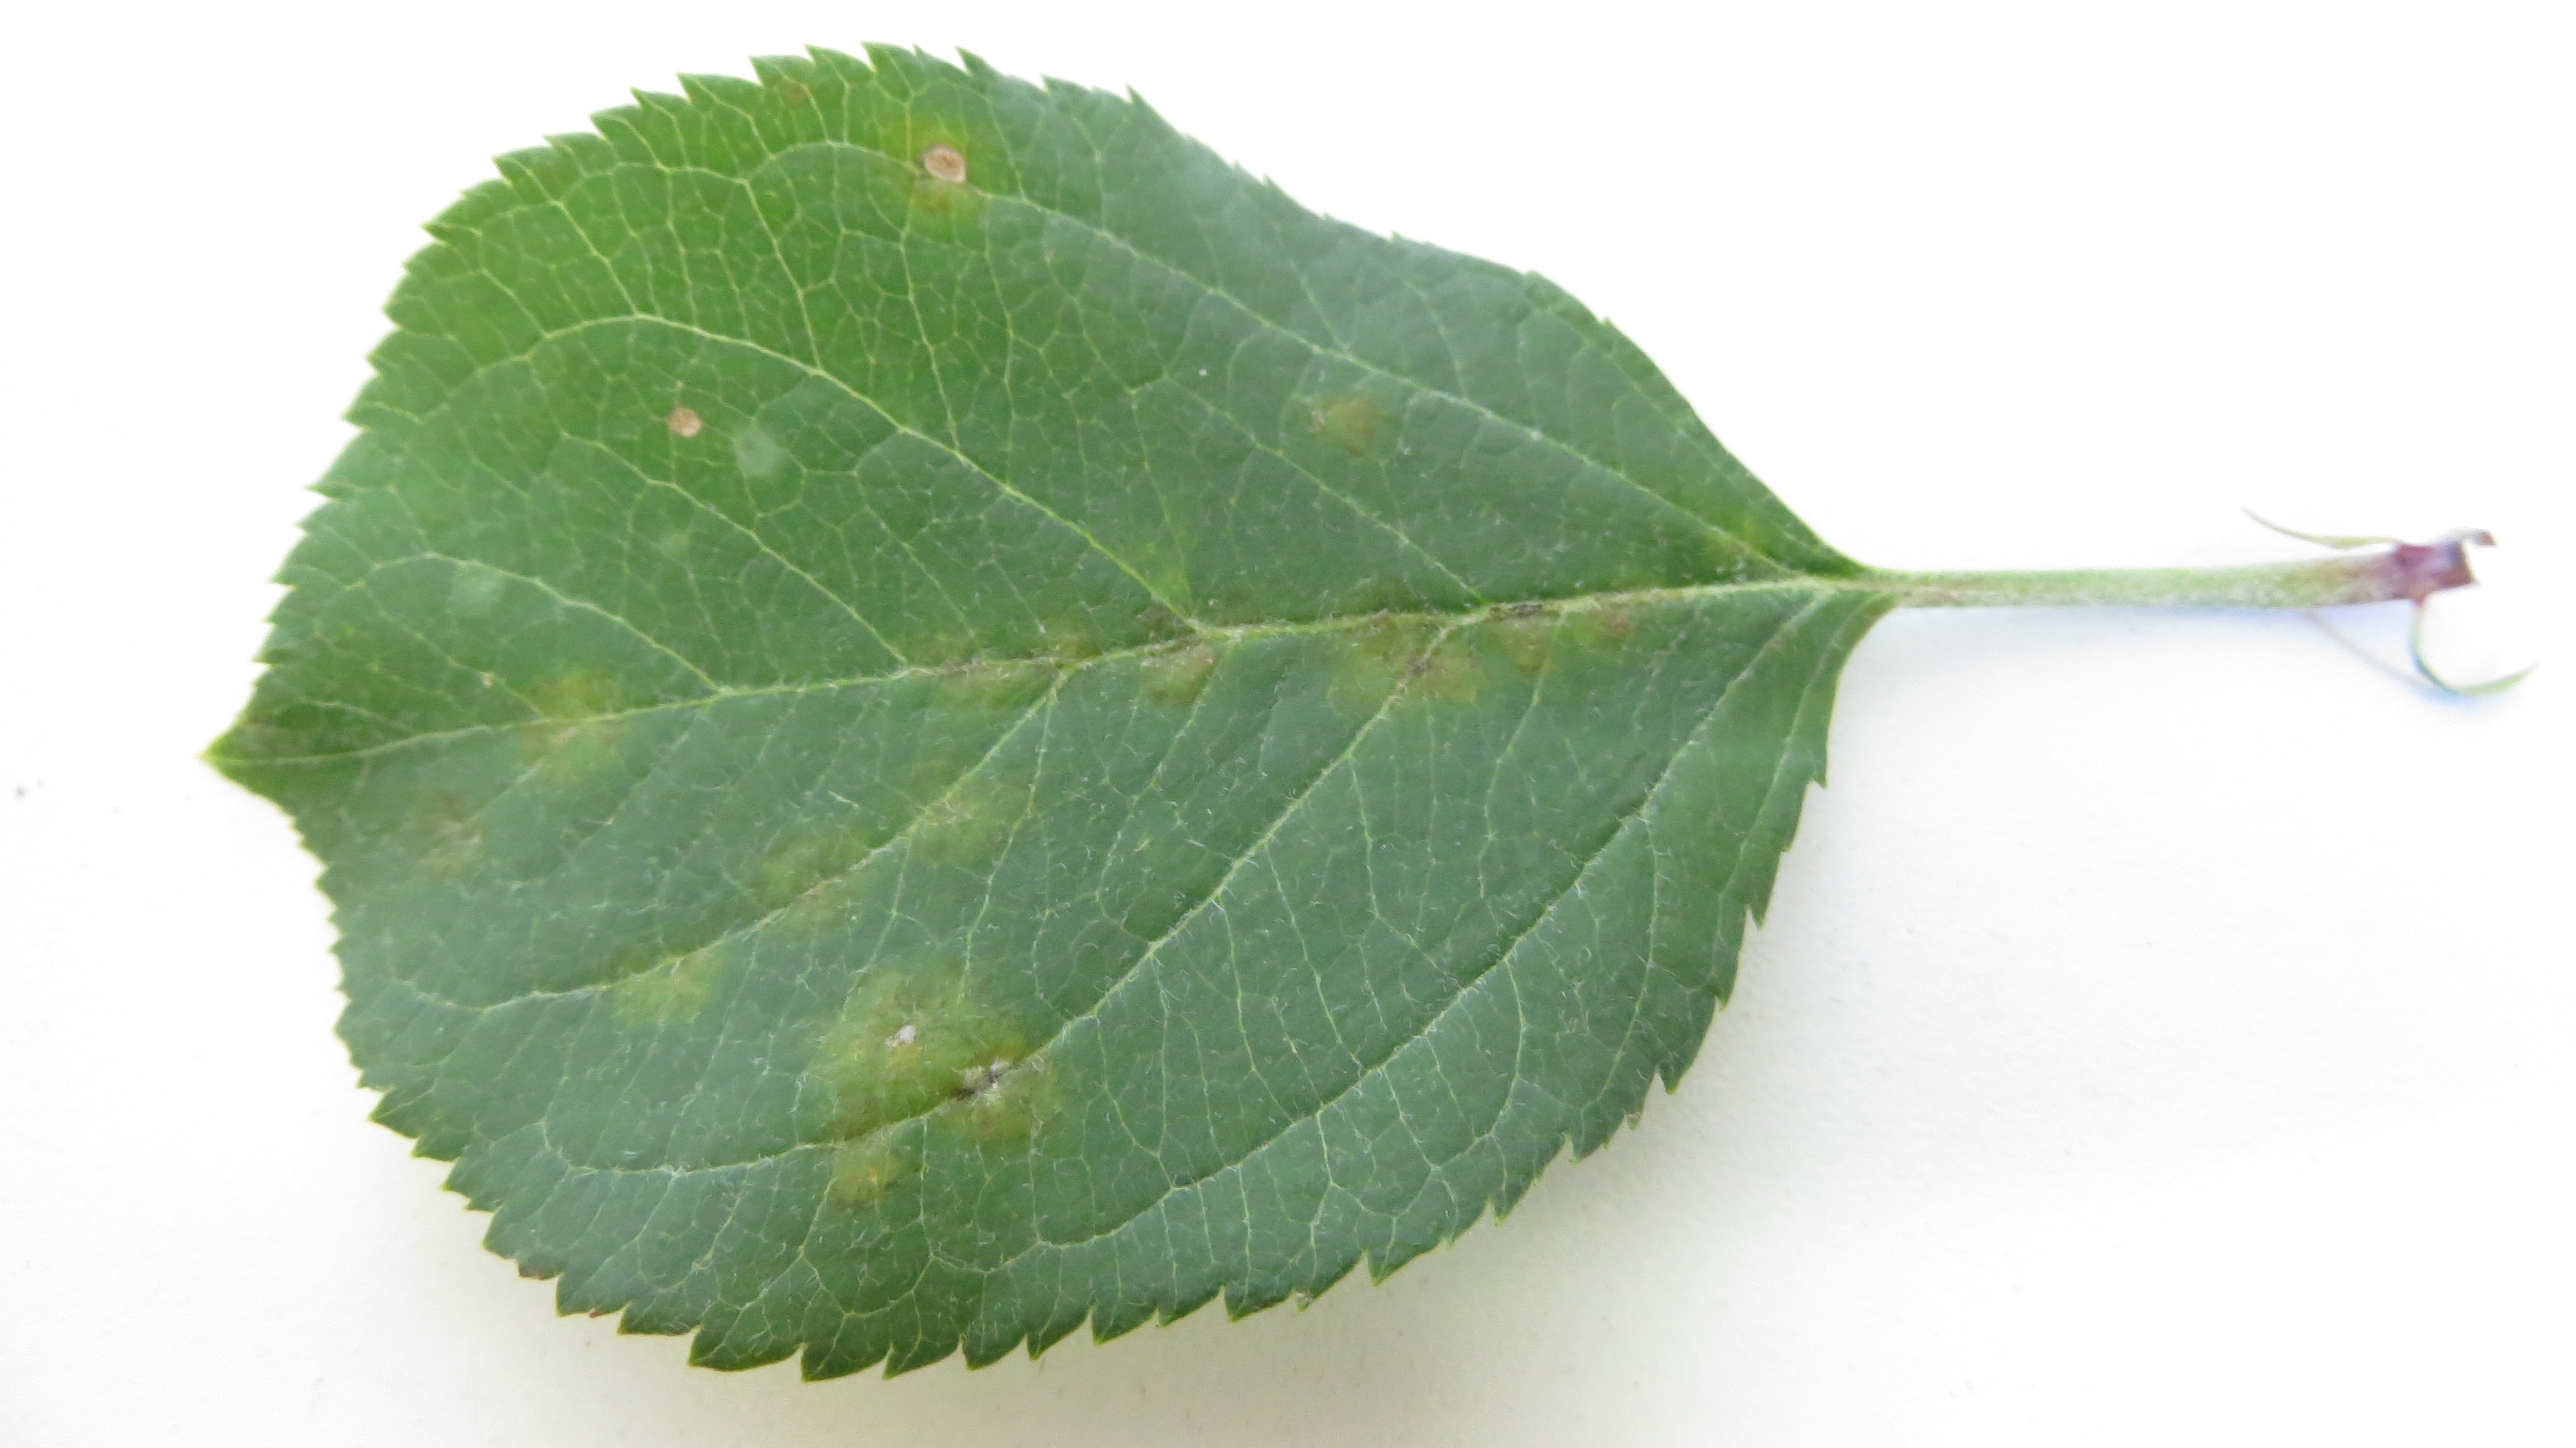sarna: (800, 949, 1046, 1202), (1316, 558, 1484, 724), (911, 586, 1095, 717), (501, 653, 644, 781), (1123, 556, 1224, 715), (587, 931, 740, 1028), (892, 761, 1031, 857), (754, 820, 865, 935), (1479, 572, 1571, 701), (395, 781, 506, 887), (1568, 551, 1658, 662), (1283, 375, 1407, 455), (893, 119, 987, 211), (653, 395, 711, 457)
